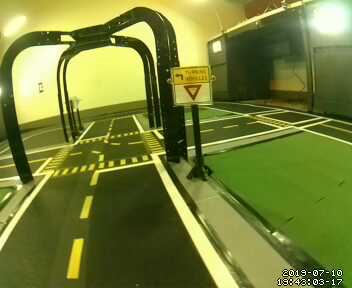Turn Yield: (168, 64, 216, 107)
